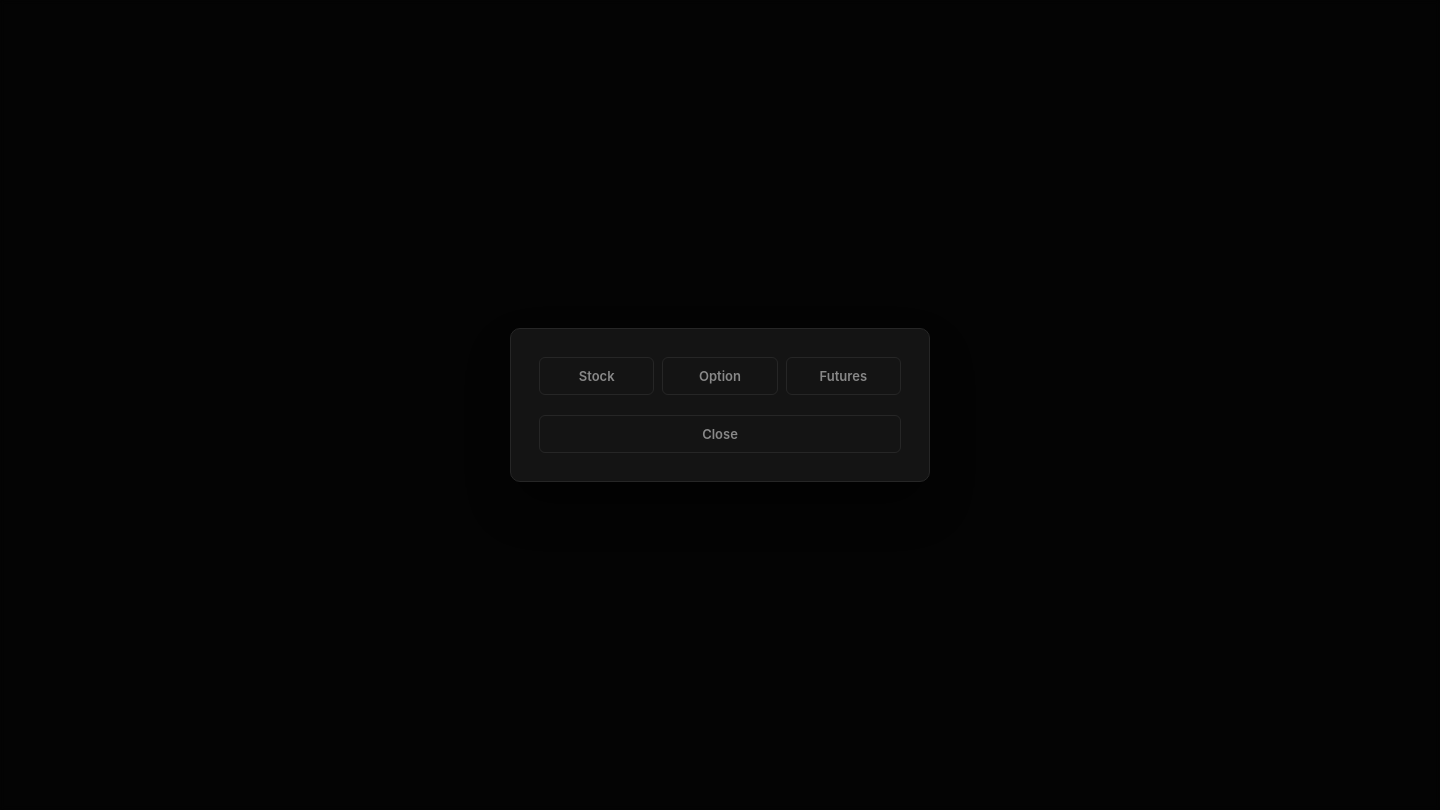
AddTradeModal › auto-fills the $ per Tick field for a recognized futures symbol
Click the button "Futures" at (843, 376), box [786,357,901,395]
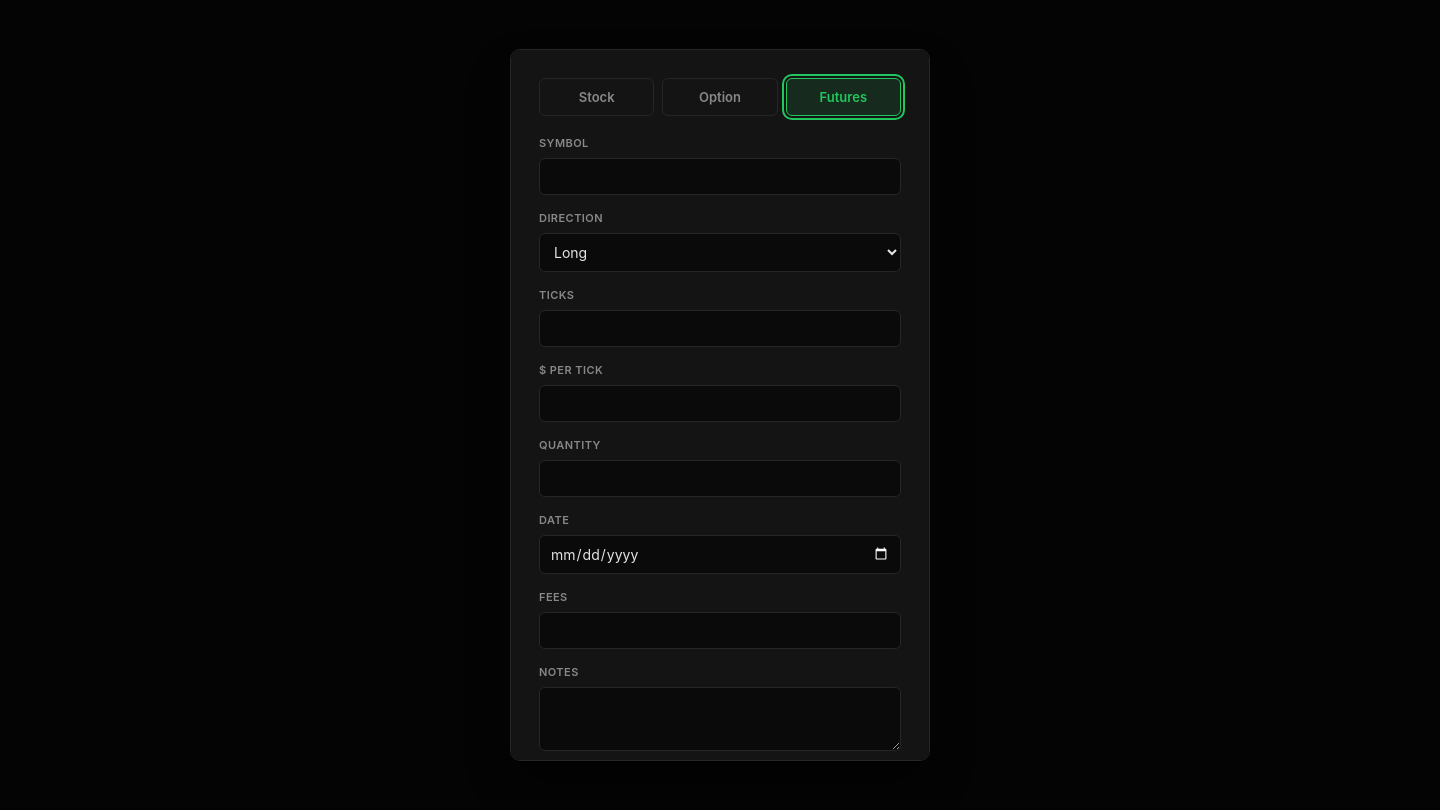
Type "MES" into the field labelled "Symbol" at (720, 176), box [539,158,901,195]
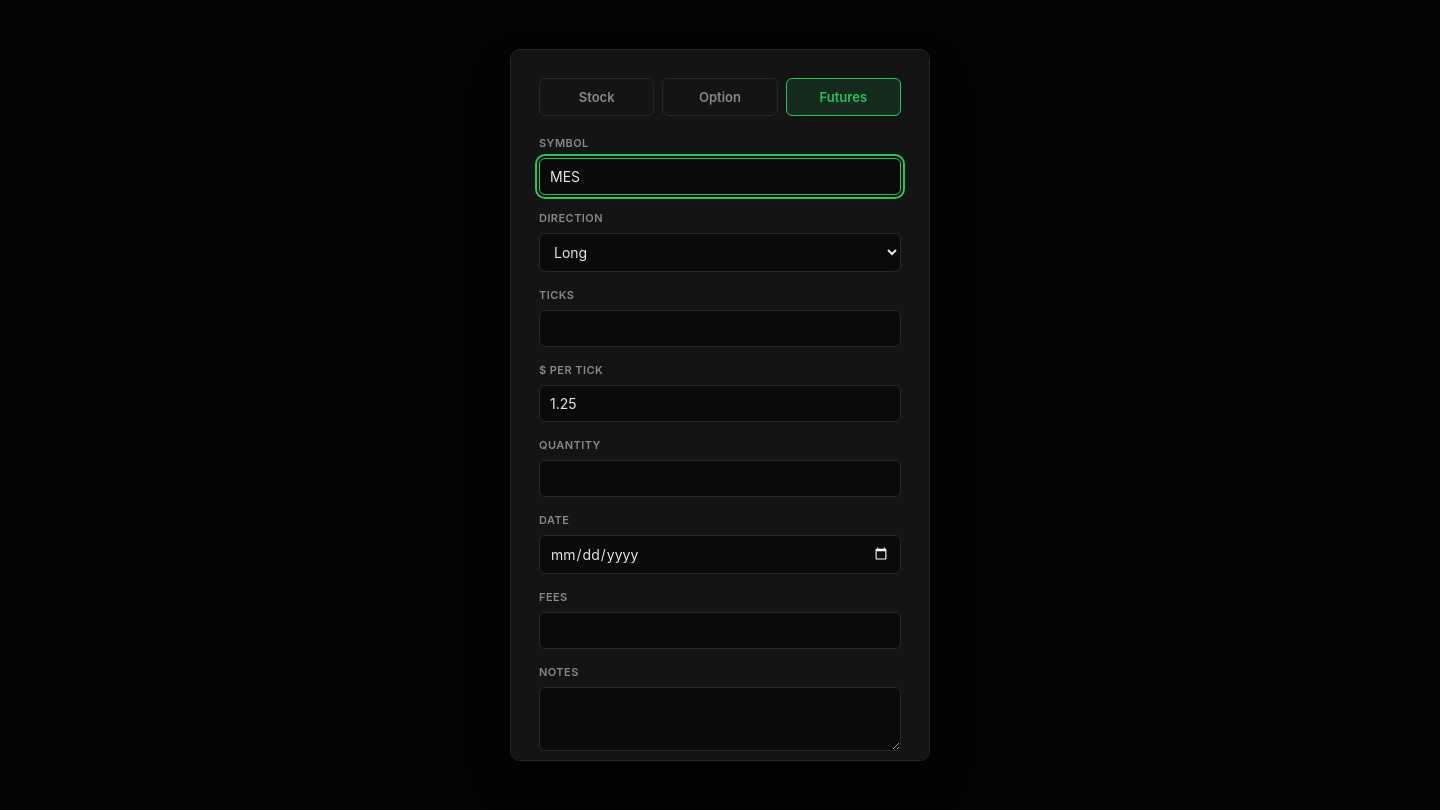
Check: the number field labelled "$ per Tick" holds "1.25", box [539,385,901,422]
